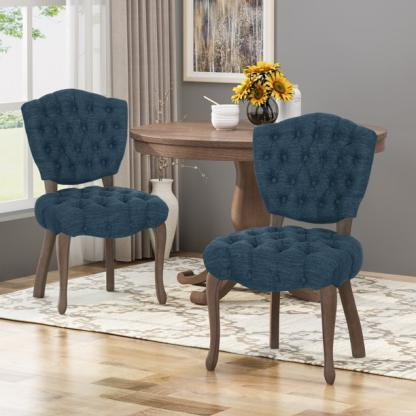chair: (189, 109, 392, 392), (12, 84, 166, 324)
table: (128, 105, 386, 302)
